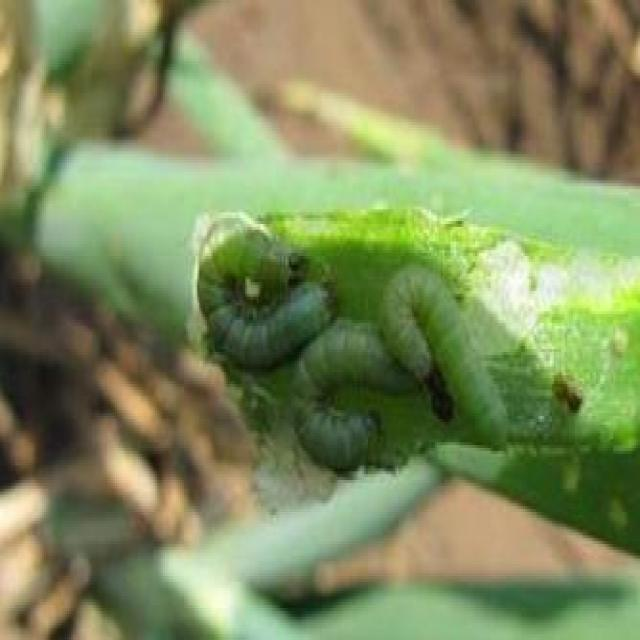BeetArmyWorm-Larva-: (379, 259, 515, 462), (188, 213, 338, 372), (285, 317, 431, 467)
